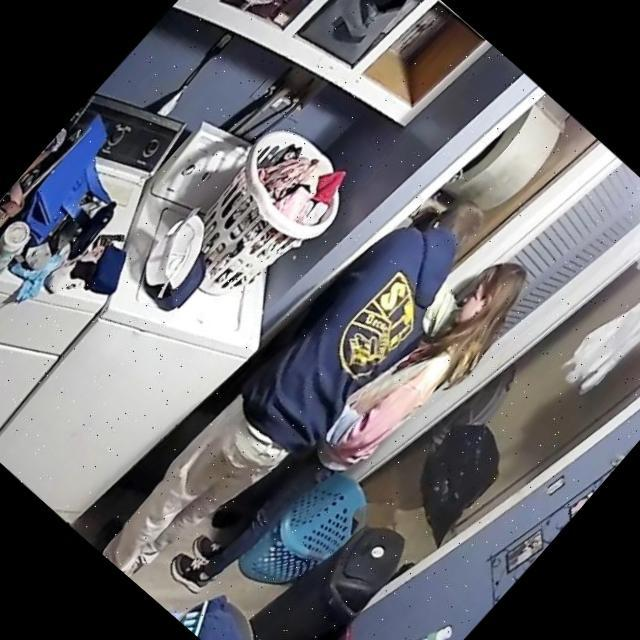person: (89, 159, 507, 617), (164, 222, 544, 636)
